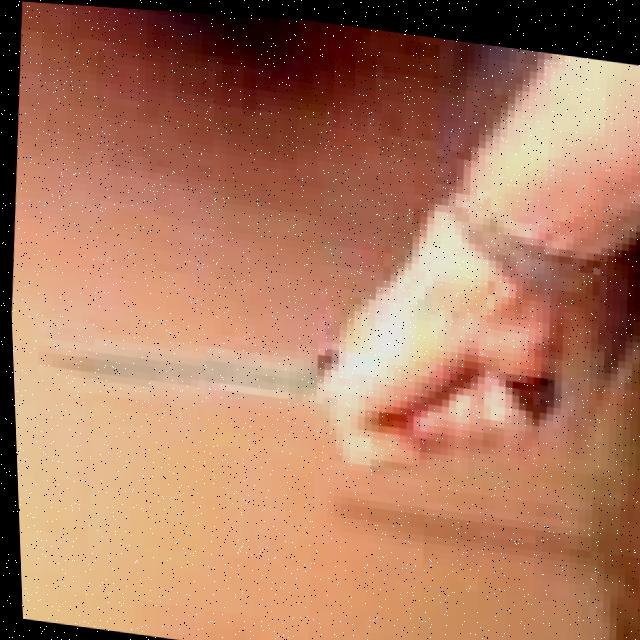knife: (21, 302, 327, 423)
